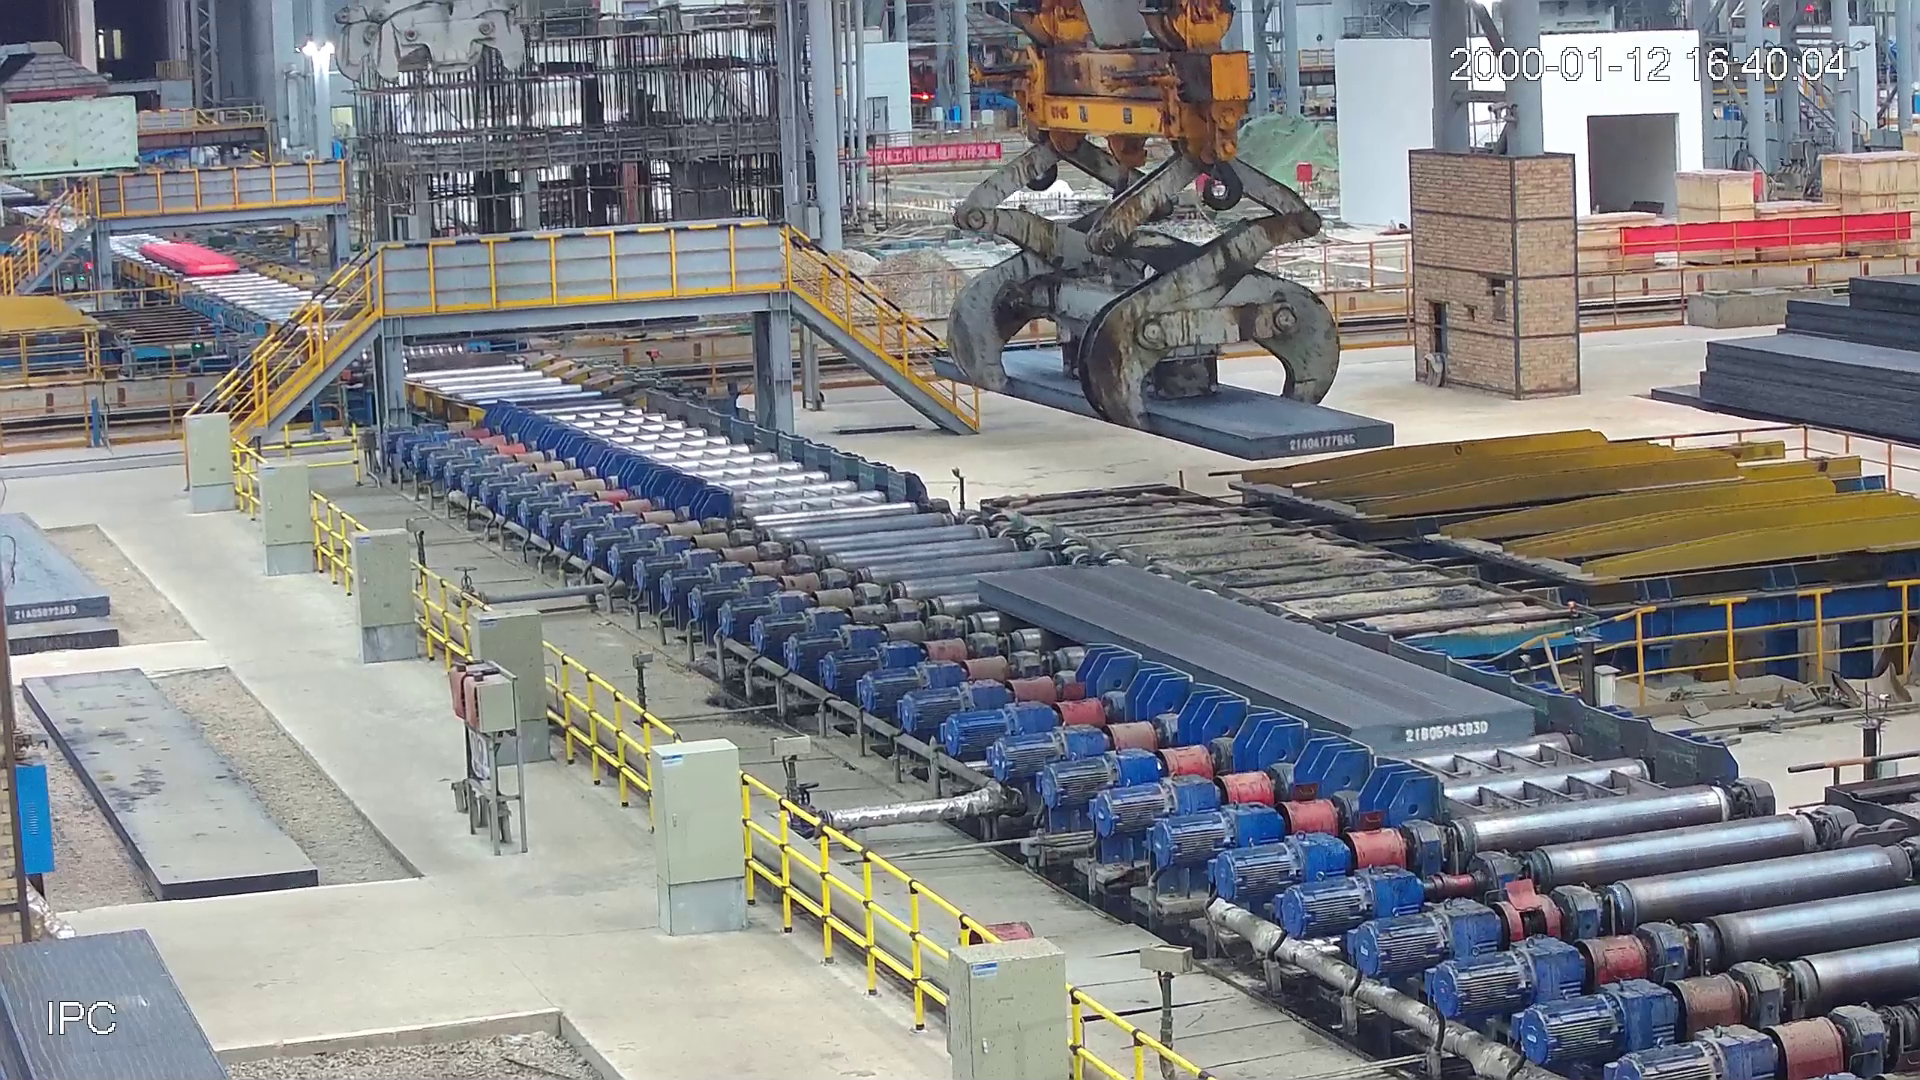craneandslab: (934, 4, 1391, 458)
slab: (975, 568, 1536, 760), (140, 243, 240, 276)
